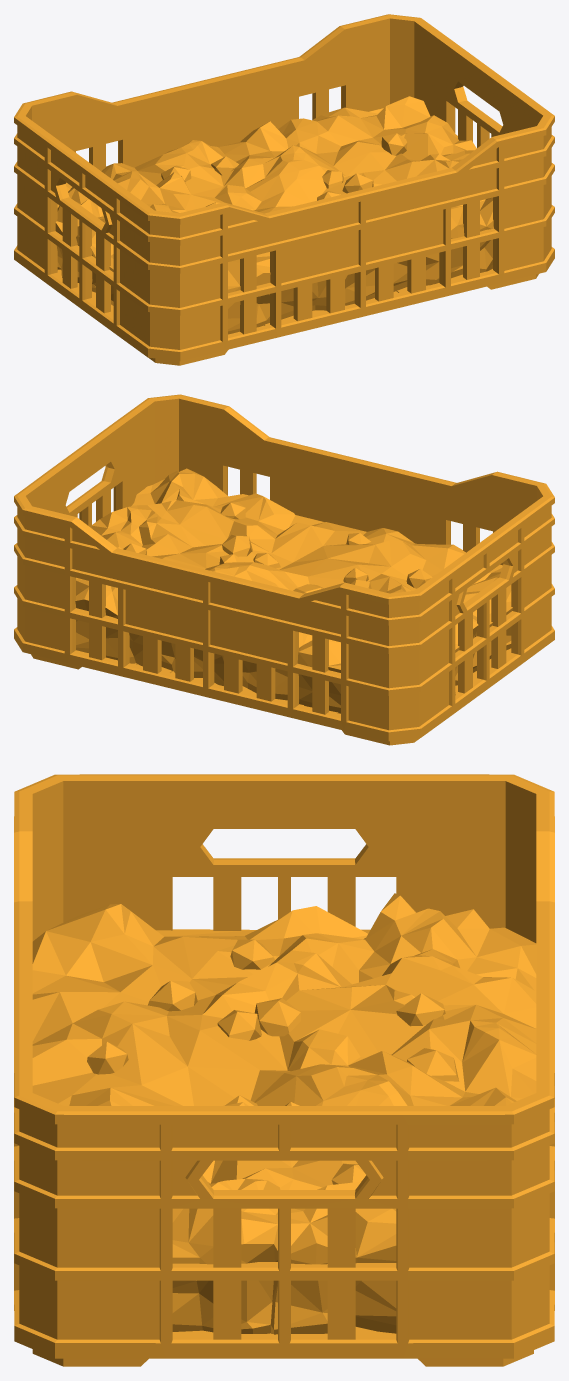
Rendered from SM_Crate_Plastic_Small_Hazelnuts.fbx.
3 views of the same model, one above another, from view 1: azimuth 30°, elevation 25°; view 2: azimuth 150°, elevation 25°; view 3: azimuth 270°, elevation 25° (orthographic). The views are drawn at different scales.
Visible parts, largest first — view 1: crate-plastic-small-hazelnuts; view 2: crate-plastic-small-hazelnuts; view 3: crate-plastic-small-hazelnuts.
Part boxes in pixels (bbox=[...]): crate-plastic-small-hazelnuts: bbox=[14, 14, 554, 365]; crate-plastic-small-hazelnuts: bbox=[14, 394, 554, 745]; crate-plastic-small-hazelnuts: bbox=[14, 774, 554, 1366].
Bounding box in the file's own units: 0.6083 × 0.2177 × 0.4083.
